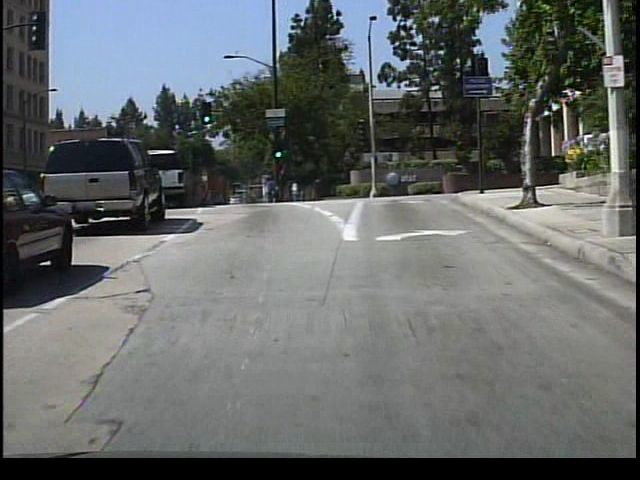person: (261, 170, 281, 206), (289, 177, 304, 204)
